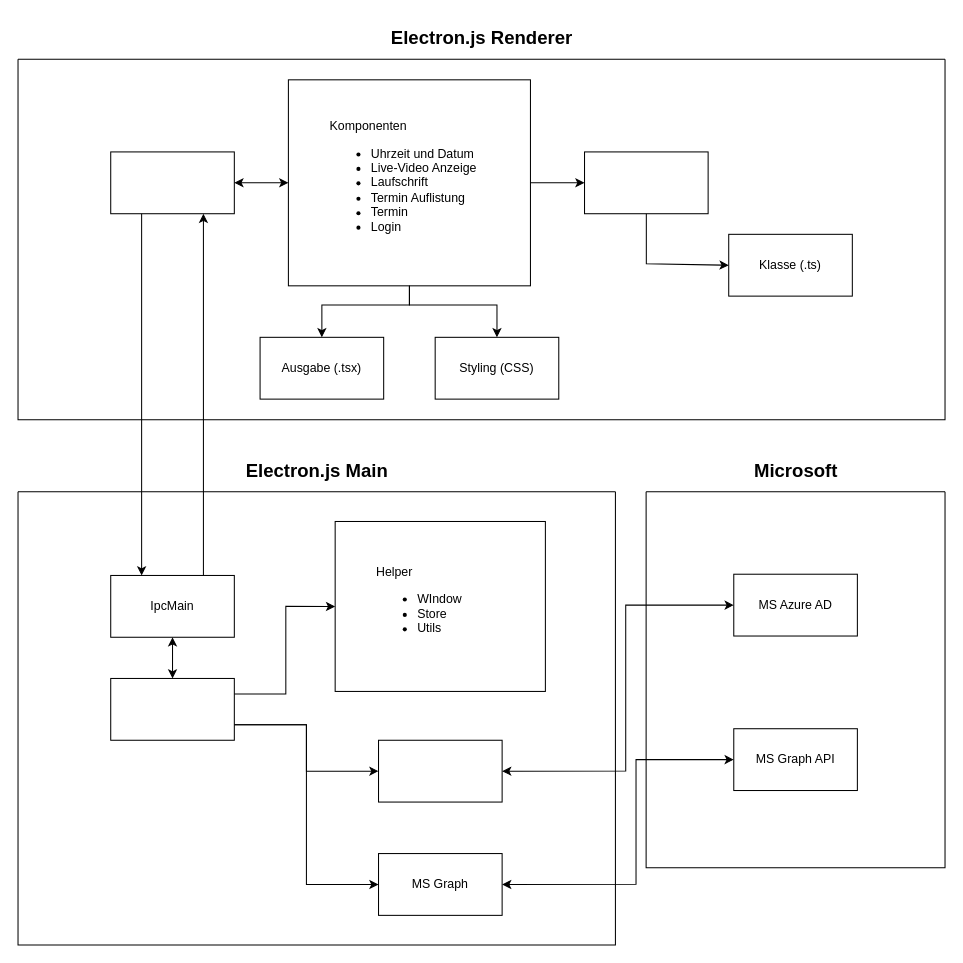
Image size: 963x963. Some labels were removed from this diagram. Here are the shapes that lost their labels. From the top down, the centre of each, then its label:
At (172,182): "IpcRenderer".
At (645,182): "Key-Handler".
At (172,708): "Main".
At (439,770): "Authentication".
